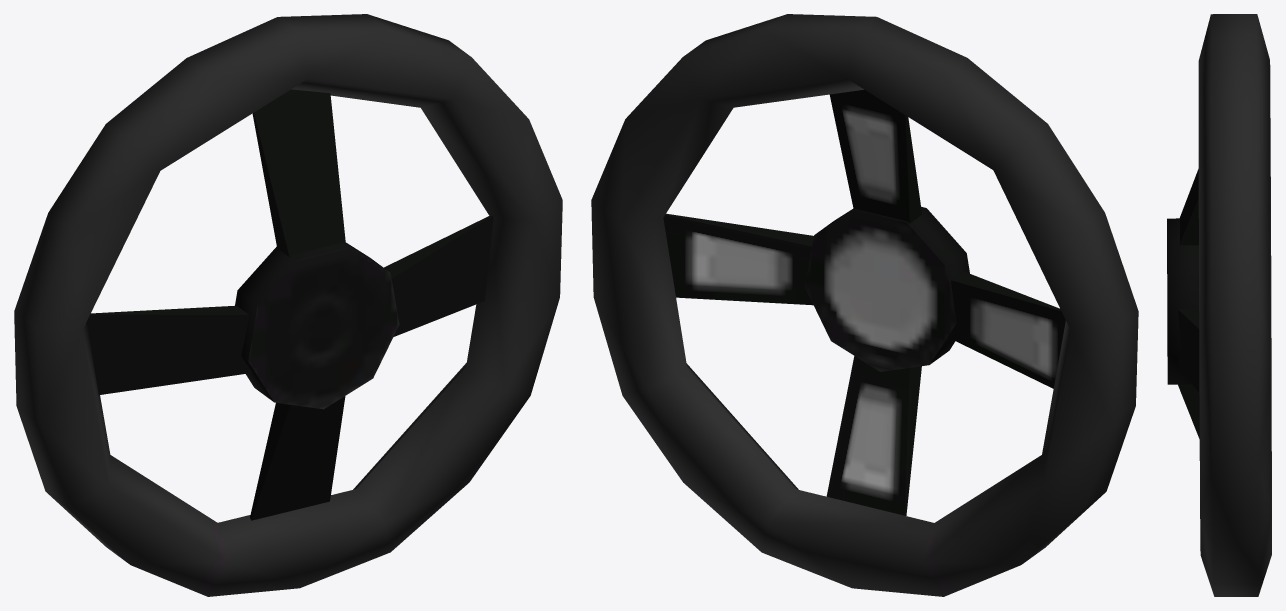
Rendered from handle.fbx.
3 renders of one model, left to right at view 1: azimuth 30°, elevation 25°; view 2: azimuth 150°, elevation 25°; view 3: azimuth 270°, elevation 25°, orthographic. The views are drawn at different scales.
Parts seen in each view (by area): view 1: BodyK_Std__m_Body; view 2: BodyK_Std__m_Body; view 3: BodyK_Std__m_Body.
Boxes of the visible parts, x1=… form: BodyK_Std__m_Body: x1=14, y1=14, x2=562, y2=596; BodyK_Std__m_Body: x1=591, y1=14, x2=1138, y2=596; BodyK_Std__m_Body: x1=1167, y1=14, x2=1271, y2=596.
Size of the model in its own units: 0.8576 by 0.8653 by 0.1552.
Materials: 1 (1 with a texture image).
